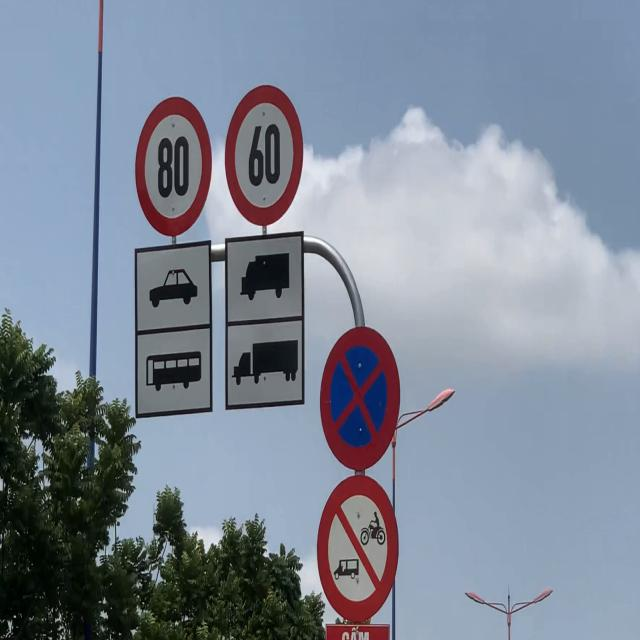Cam con lai: (316, 477, 400, 624)
Cam dung va do: (318, 325, 402, 472)
Toc do toi da: (223, 83, 305, 228), (134, 94, 214, 238)
